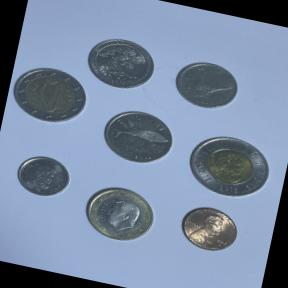coin: (177, 125, 279, 207), (74, 176, 168, 253), (6, 57, 93, 130), (94, 100, 180, 172), (80, 30, 162, 96), (168, 195, 244, 260), (7, 144, 77, 204)
